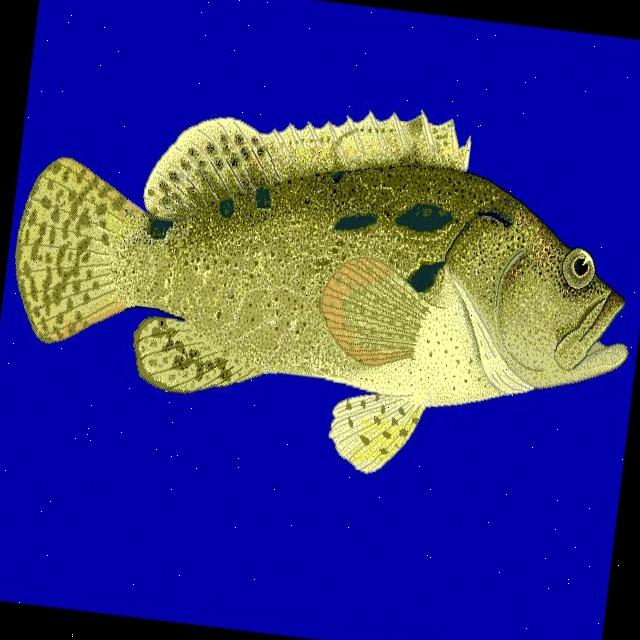ikan: (0, 61, 640, 503)
